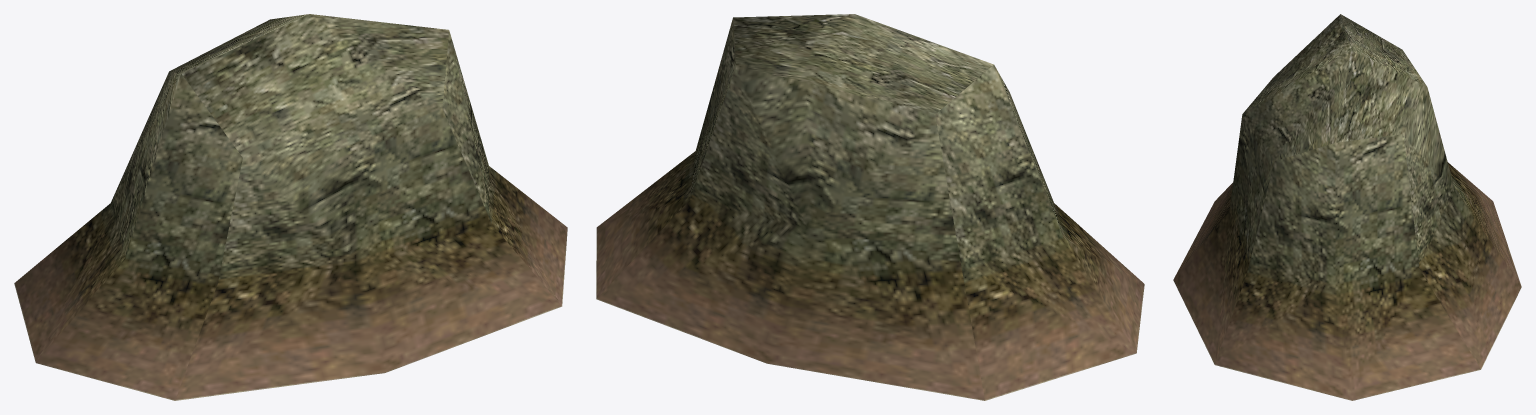
The model's file is nast6.dae.
The picture shows the model from 3 angles, left to right: view 1: azimuth 30°, elevation 25°; view 2: azimuth 150°, elevation 25°; view 3: azimuth 270°, elevation 25°; orthographic projection. The views are drawn at different scales.
Visible parts, largest first — view 1: stone06; view 2: stone06; view 3: stone06.
Boxes of the visible parts, x1,y1,x2,y2 form: stone06: (14,14,567,400); stone06: (596,14,1144,400); stone06: (1173,14,1521,400).
Size of the model in its own units: 5.29 by 3.43 by 2.61.
1 material, 1 textured.
